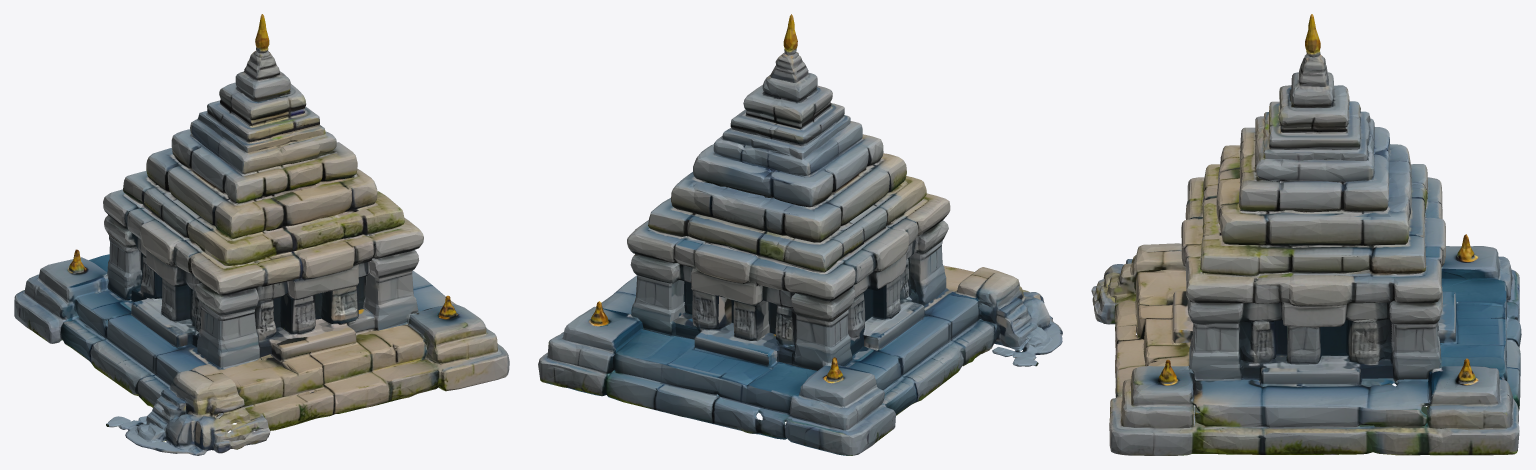
The model's file is kadamba-stepped-stone-roof-module-optimized.glb.
3 views of the same model, side by side, from view 1: azimuth 30°, elevation 25°; view 2: azimuth 150°, elevation 25°; view 3: azimuth 270°, elevation 25° (orthographic). The views are drawn at different scales.
Parts seen in each view (by area): view 1: a4123117-f2a8-443c-821b-99ec826366db_texturing.obj; view 2: a4123117-f2a8-443c-821b-99ec826366db_texturing.obj; view 3: a4123117-f2a8-443c-821b-99ec826366db_texturing.obj.
Part boxes in pixels (box(x1,y1,x2,y2)): a4123117-f2a8-443c-821b-99ec826366db_texturing.obj: box(14, 14, 509, 455); a4123117-f2a8-443c-821b-99ec826366db_texturing.obj: box(538, 14, 1062, 455); a4123117-f2a8-443c-821b-99ec826366db_texturing.obj: box(1091, 14, 1521, 455).
Size of the model in its own units: 3.5 by 3.11 by 3.37.
1 material, 1 textured.
